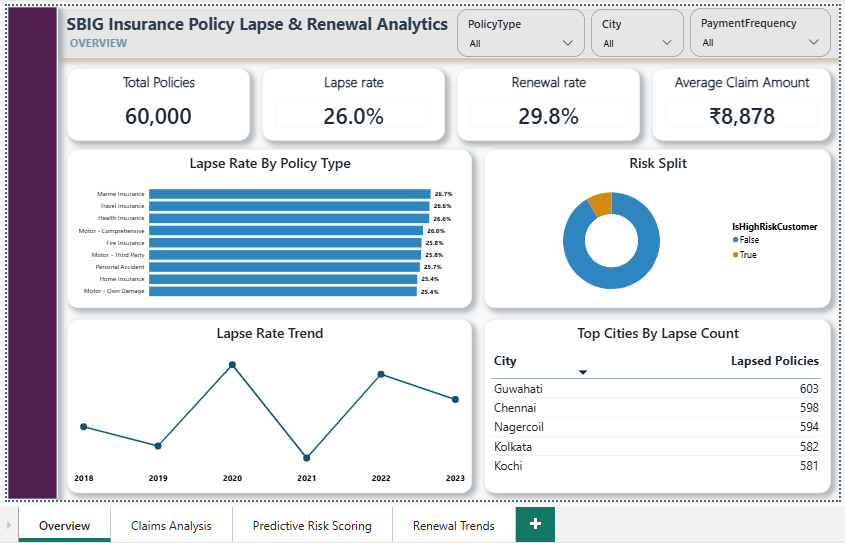

What the dashboard file says about the page in this screenshot:
{"tool":"powerbi","page":{"name":"Overview","canvas":[1600,950],"ordinal":0},"visuals":[{"type":"shape","box":[98.1,3.8,1501.9,96.2],"z":0},{"type":"textbox","box":[109.6,5.8,755.8,100],"z":1000},{"type":"shape","box":[0,0,98.1,950],"z":2000},{"type":"cardVisual","title":"Total Policies","fields":{"Data":["all_measures.Total Policies"]},"box":[115.4,119.2,351.9,140.4],"z":3000},{"type":"cardVisual","title":"Lapse rate","fields":{"Data":["all_measures.Lapse Rate %"]},"box":[490.4,119.2,351.9,140.4],"z":4000},{"type":"cardVisual","title":"Renewal rate","fields":{"Data":["all_measures.Renewal Rate %"]},"box":[865.4,119.2,351.9,140.4],"z":5000},{"type":"cardVisual","title":"Average Claim Amount","fields":{"Data":["all_measures.Avg Claim Amount"]},"box":[1240.4,119.2,344.2,140.4],"z":6000},{"type":"slicer","fields":{"Values":["LapseRiskSummary.PolicyType"]},"box":[865.4,5.8,246,92.3],"z":7000},{"type":"slicer","fields":{"Values":["LapseRiskSummary.City"]},"box":[1123.1,5.8,178.8,92.3],"z":8000},{"type":"slicer","fields":{"Values":["LapseRiskSummary.PaymentFrequency"]},"box":[1313.5,3.8,271.2,94.2],"z":9000},{"type":"clusteredBarChart","title":"Lapse Rate By Policy Type","fields":{"Category":["LapseRiskSummary.PolicyType"],"Y":["all_measures.Lapse Rate %"]},"box":[115.4,275,778.8,305.8],"z":10000},{"type":"donutChart","title":"Risk Split","fields":{"Category":["LapseRiskSummary.IsHighRiskCustomer"],"Y":["all_measures.Total Policies"]},"box":[917.3,275,667.3,305.8],"z":11000},{"type":"lineChart","title":"Lapse Rate Trend","fields":{"Category":["DateTable.Year"],"Y":["all_measures.Lapse Rate %"]},"box":[115.4,601.9,778.8,334.6],"z":12000},{"type":"tableEx","title":"Top Cities By Lapse Count","fields":{"Values":["LapseRiskSummary.City","all_measures.Lapsed Policies"]},"box":[917.3,601.9,667.3,334.6],"z":13000}]}

Visuals, with their boxes on the page's 1600x950 design canvas (x1, y1, x2, y2). These are canvas units, not pixel positions in the 845x543 screenshot, which may show the page scaled, cropped or inside an application window:
shape: x1=98 y1=4 x2=1600 y2=100
textbox: x1=110 y1=6 x2=865 y2=106
shape: x1=0 y1=0 x2=98 y2=950
"Total Policies" cardVisual: x1=115 y1=119 x2=467 y2=260
"Lapse rate" cardVisual: x1=490 y1=119 x2=842 y2=260
"Renewal rate" cardVisual: x1=865 y1=119 x2=1217 y2=260
"Average Claim Amount" cardVisual: x1=1240 y1=119 x2=1585 y2=260
slicer - LapseRiskSummary.PolicyType: x1=865 y1=6 x2=1111 y2=98
slicer - LapseRiskSummary.City: x1=1123 y1=6 x2=1302 y2=98
slicer - LapseRiskSummary.PaymentFrequency: x1=1314 y1=4 x2=1585 y2=98
"Lapse Rate By Policy Type" clusteredBarChart: x1=115 y1=275 x2=894 y2=581
"Risk Split" donutChart: x1=917 y1=275 x2=1585 y2=581
"Lapse Rate Trend" lineChart: x1=115 y1=602 x2=894 y2=936
"Top Cities By Lapse Count" tableEx: x1=917 y1=602 x2=1585 y2=936
